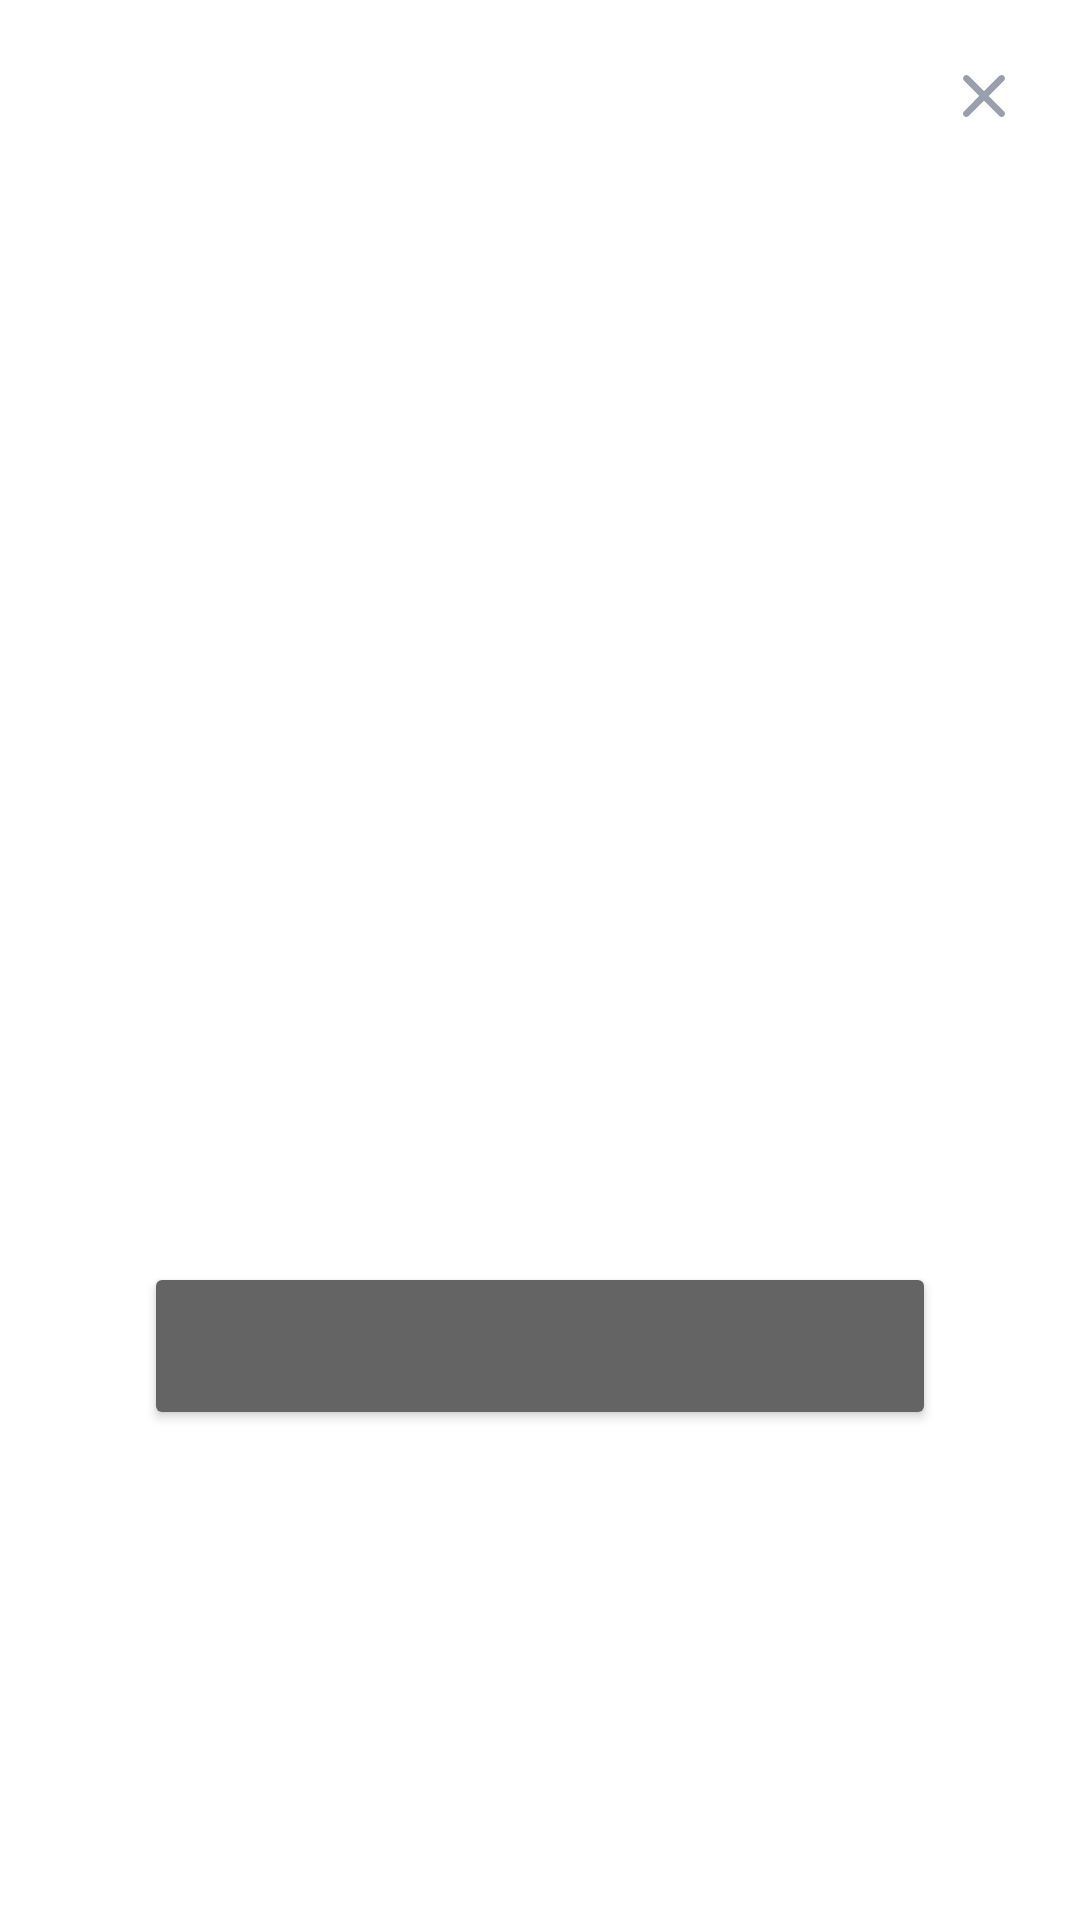

Locate icon controls on the screen. Image size 1080w x 1920h, boxes as (x1, y1, x2, y2).
close: (963, 75, 1005, 117)
